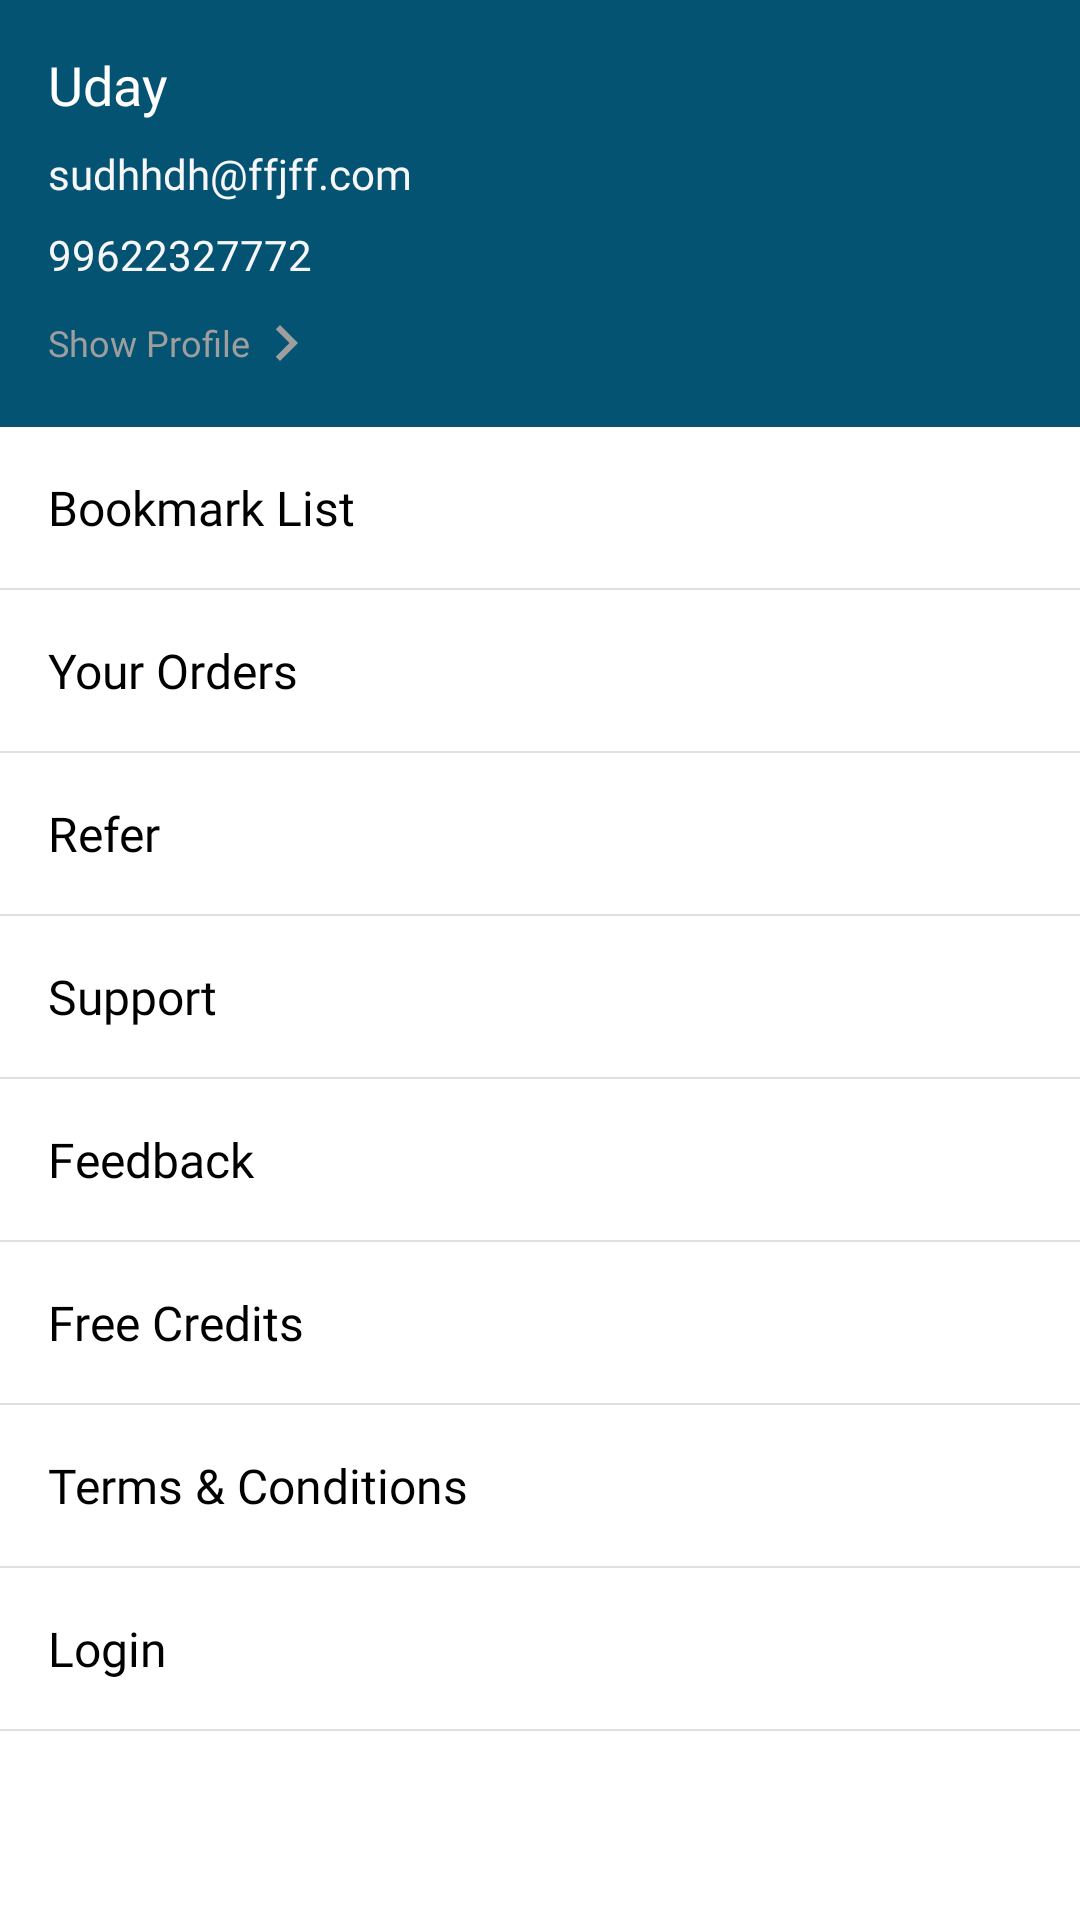

Locate icon controls on the screen. Image size 1080*1920, boxes as (x1, y1, x2, y2).
chevron right: (276, 325, 298, 361)
